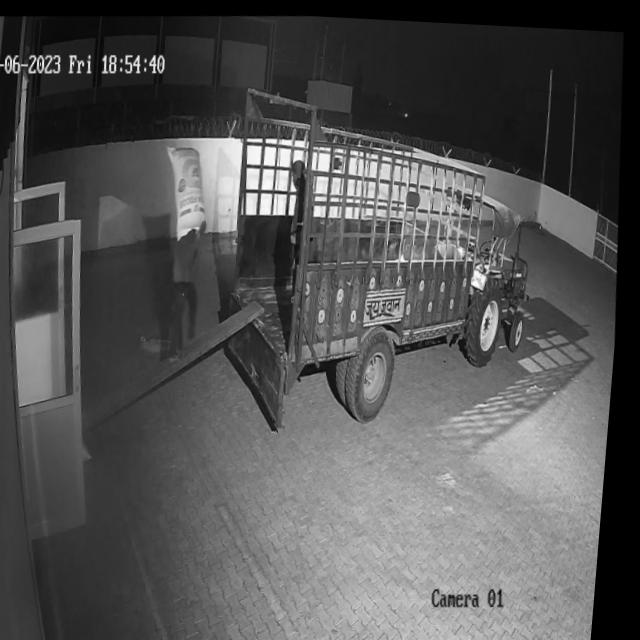sack: (165, 142, 215, 239)
